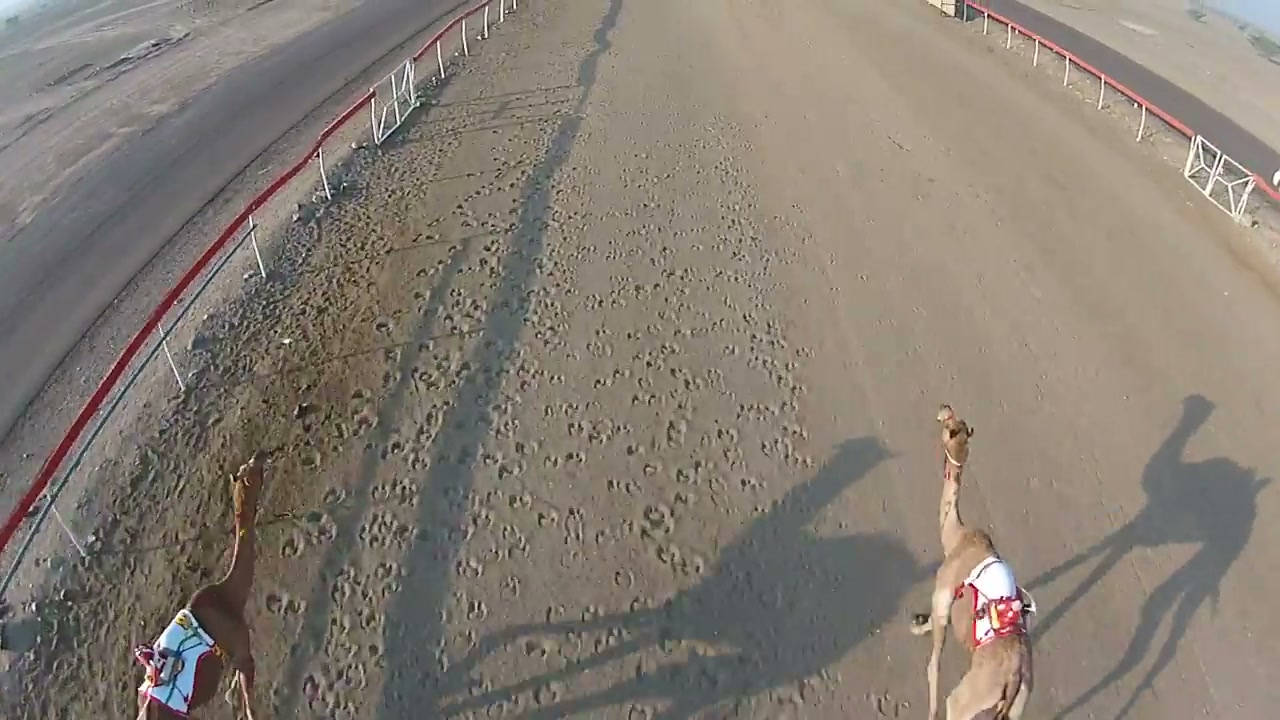animal_foot_print: (260, 140, 724, 719)
